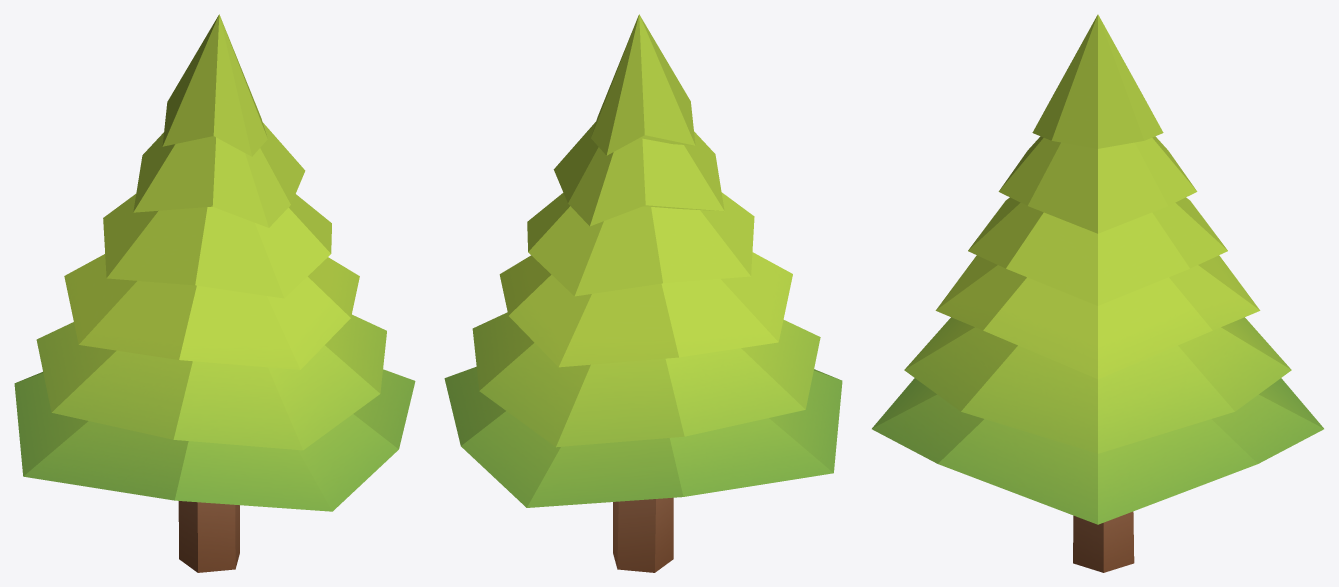
File: TREE005.fbx
3 renders of one model, left to right at view 1: azimuth 30°, elevation 25°; view 2: azimuth 150°, elevation 25°; view 3: azimuth 270°, elevation 25°, orthographic.
Visible parts, largest first — view 1: polySurface41; view 2: polySurface41; view 3: polySurface41.
Part boxes in pixels (left/top/right/bottom): polySurface41: left=14, top=14, right=415, bottom=572; polySurface41: left=444, top=14, right=842, bottom=572; polySurface41: left=872, top=14, right=1323, bottom=572.
Bounding box in the file's own units: 6.91 × 9.21 × 6.91.
Materials: 1 (1 with a texture image).
